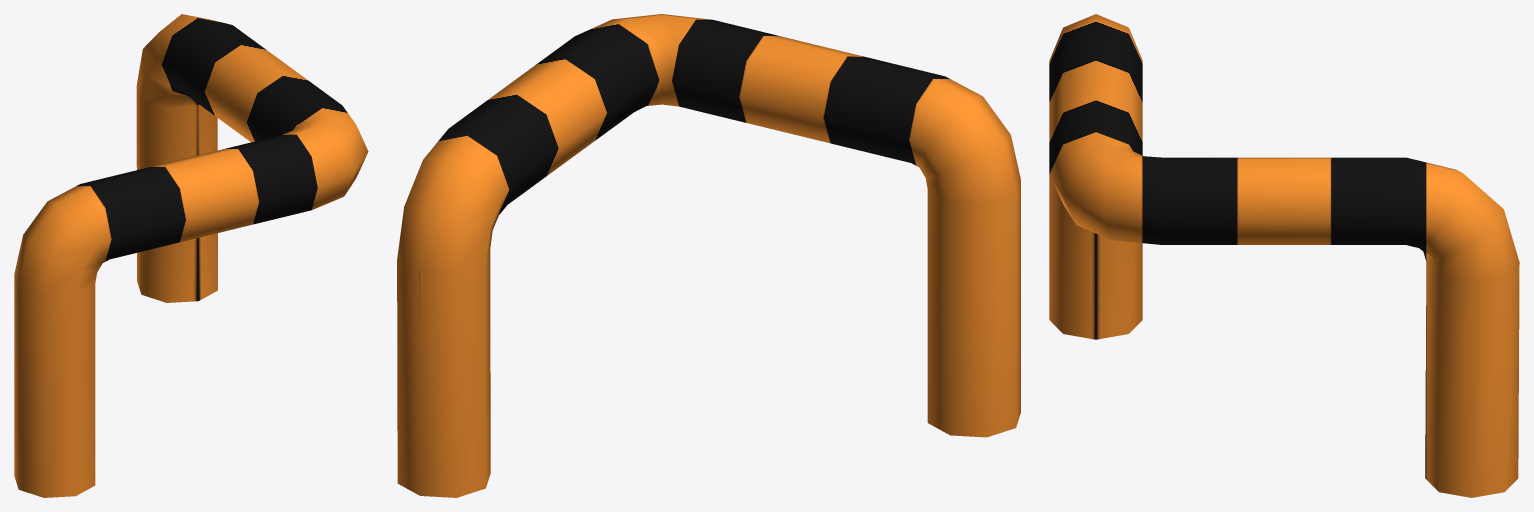
Rendered from Corner_Limiter_Simple.FBX.
3 renders of one model, left to right at view 1: azimuth 30°, elevation 25°; view 2: azimuth 150°, elevation 25°; view 3: azimuth 270°, elevation 25°, orthographic. The views are drawn at different scales.
Parts seen in each view (by area): view 1: Corner_Limiter; view 2: Corner_Limiter; view 3: Corner_Limiter.
Boxes of the visible parts, x1,y1,x2,y2 form: Corner_Limiter: (14,14,368,497); Corner_Limiter: (397,14,1020,497); Corner_Limiter: (1049,14,1519,497).
Size of the model in its own units: 753 by 567 by 757.
1 material, 1 textured.
